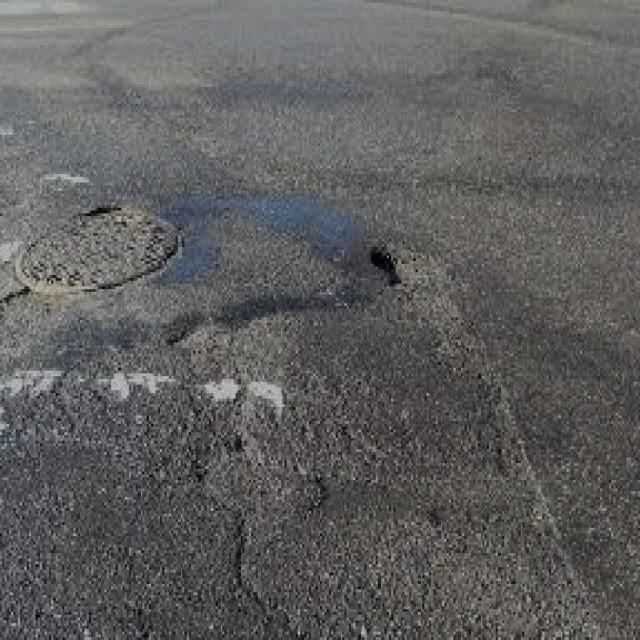road-pothole: (10, 197, 180, 303)
